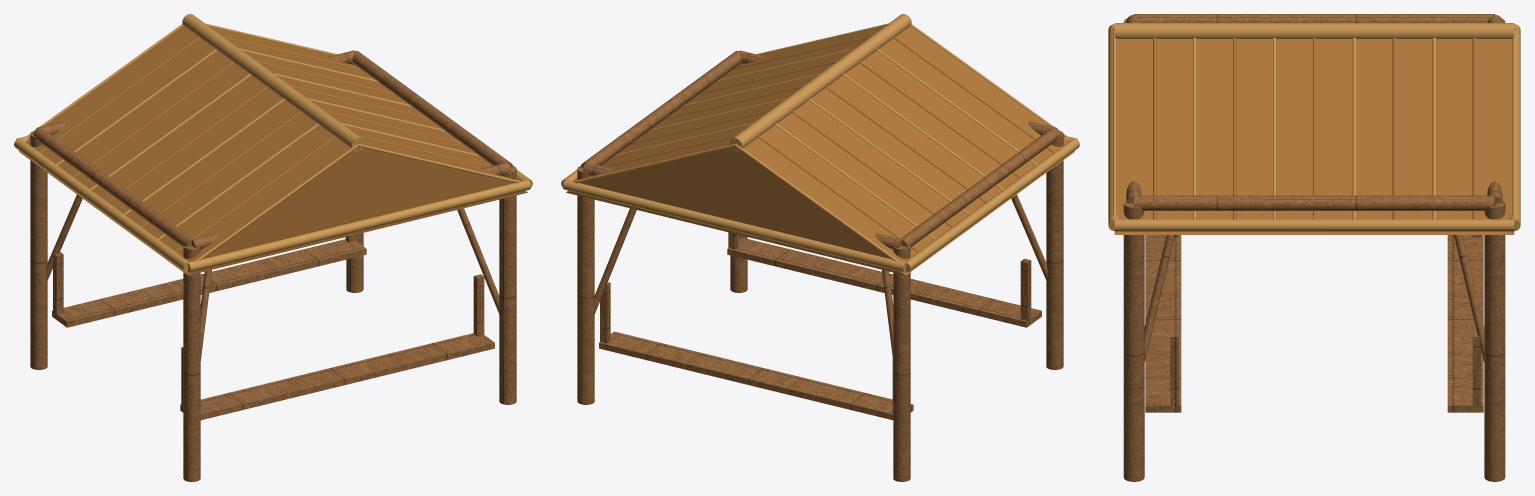
Rendered from Filagoria.obj.
The picture shows the model from 3 angles, left to right: view 1: azimuth 30°, elevation 25°; view 2: azimuth 150°, elevation 25°; view 3: azimuth 270°, elevation 25°; orthographic projection. The views are drawn at different scales.
Size of the model in its own units: 3.43 by 2.88 by 2.97.
Materials: 3 (1 with a texture image).
